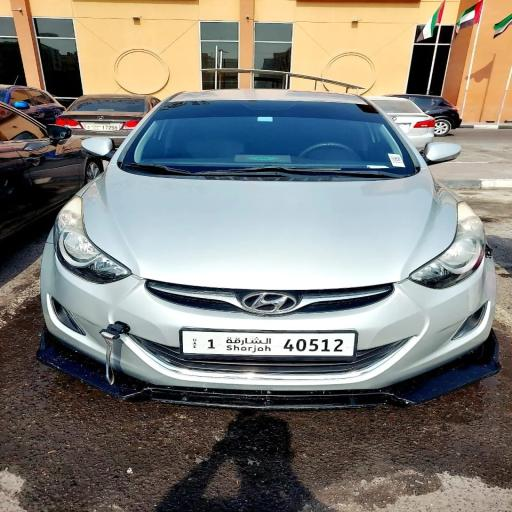license-plates: (183, 331, 355, 356), (85, 124, 119, 131)
